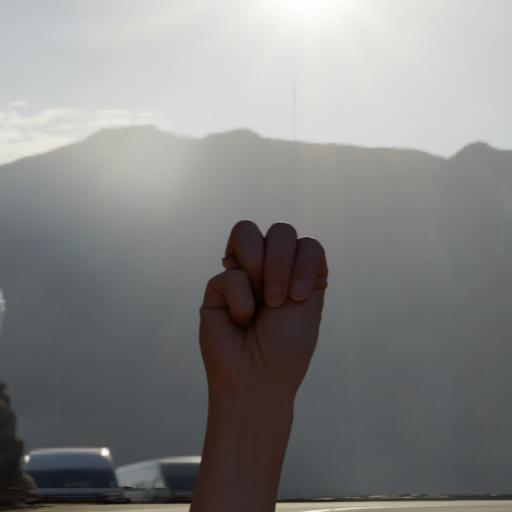M: (184, 207, 340, 422)
